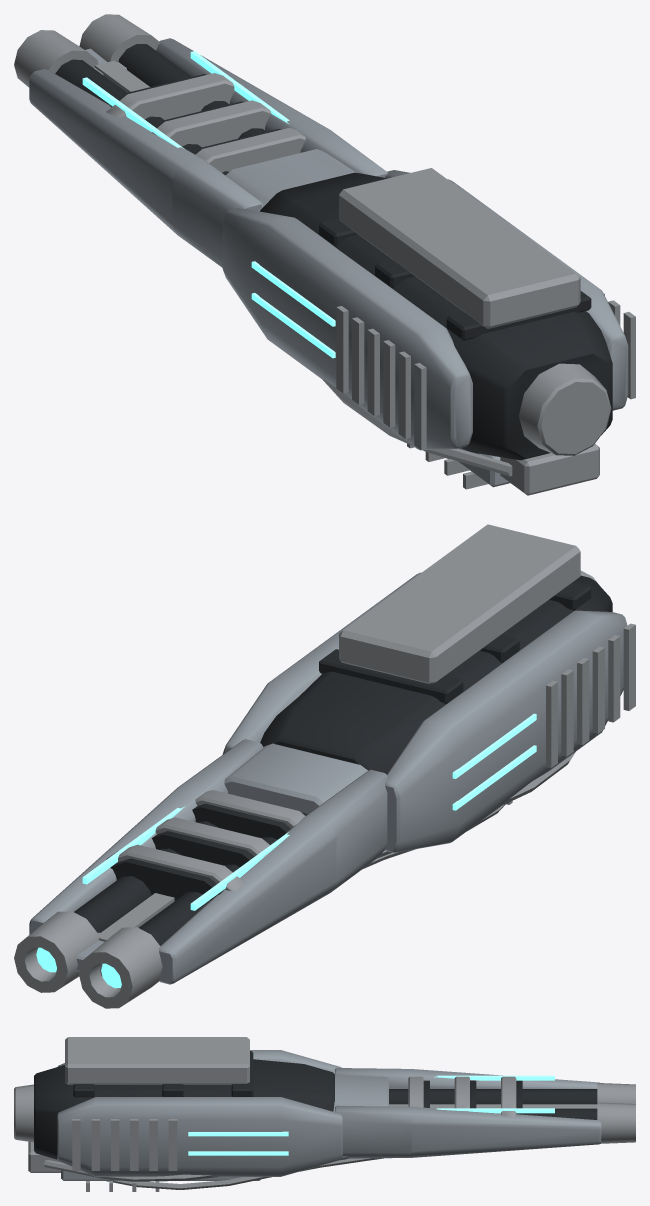
File: weapon_mk2.glb
The picture shows the model from 3 angles, top to bottom: view 1: azimuth 30°, elevation 25°; view 2: azimuth 150°, elevation 25°; view 3: azimuth 270°, elevation 25°; orthographic projection. The views are drawn at different scales.
Visible parts, largest first — view 1: weapon_mk2; view 2: weapon_mk2; view 3: weapon_mk2.
Boxes of the visible parts, box(x1,y1,x2,y2) form: weapon_mk2: box(14, 14, 635, 495); weapon_mk2: box(14, 524, 635, 1008); weapon_mk2: box(14, 1037, 635, 1191).
Size of the model in its own units: 1.99 by 1.8 by 8.06.
